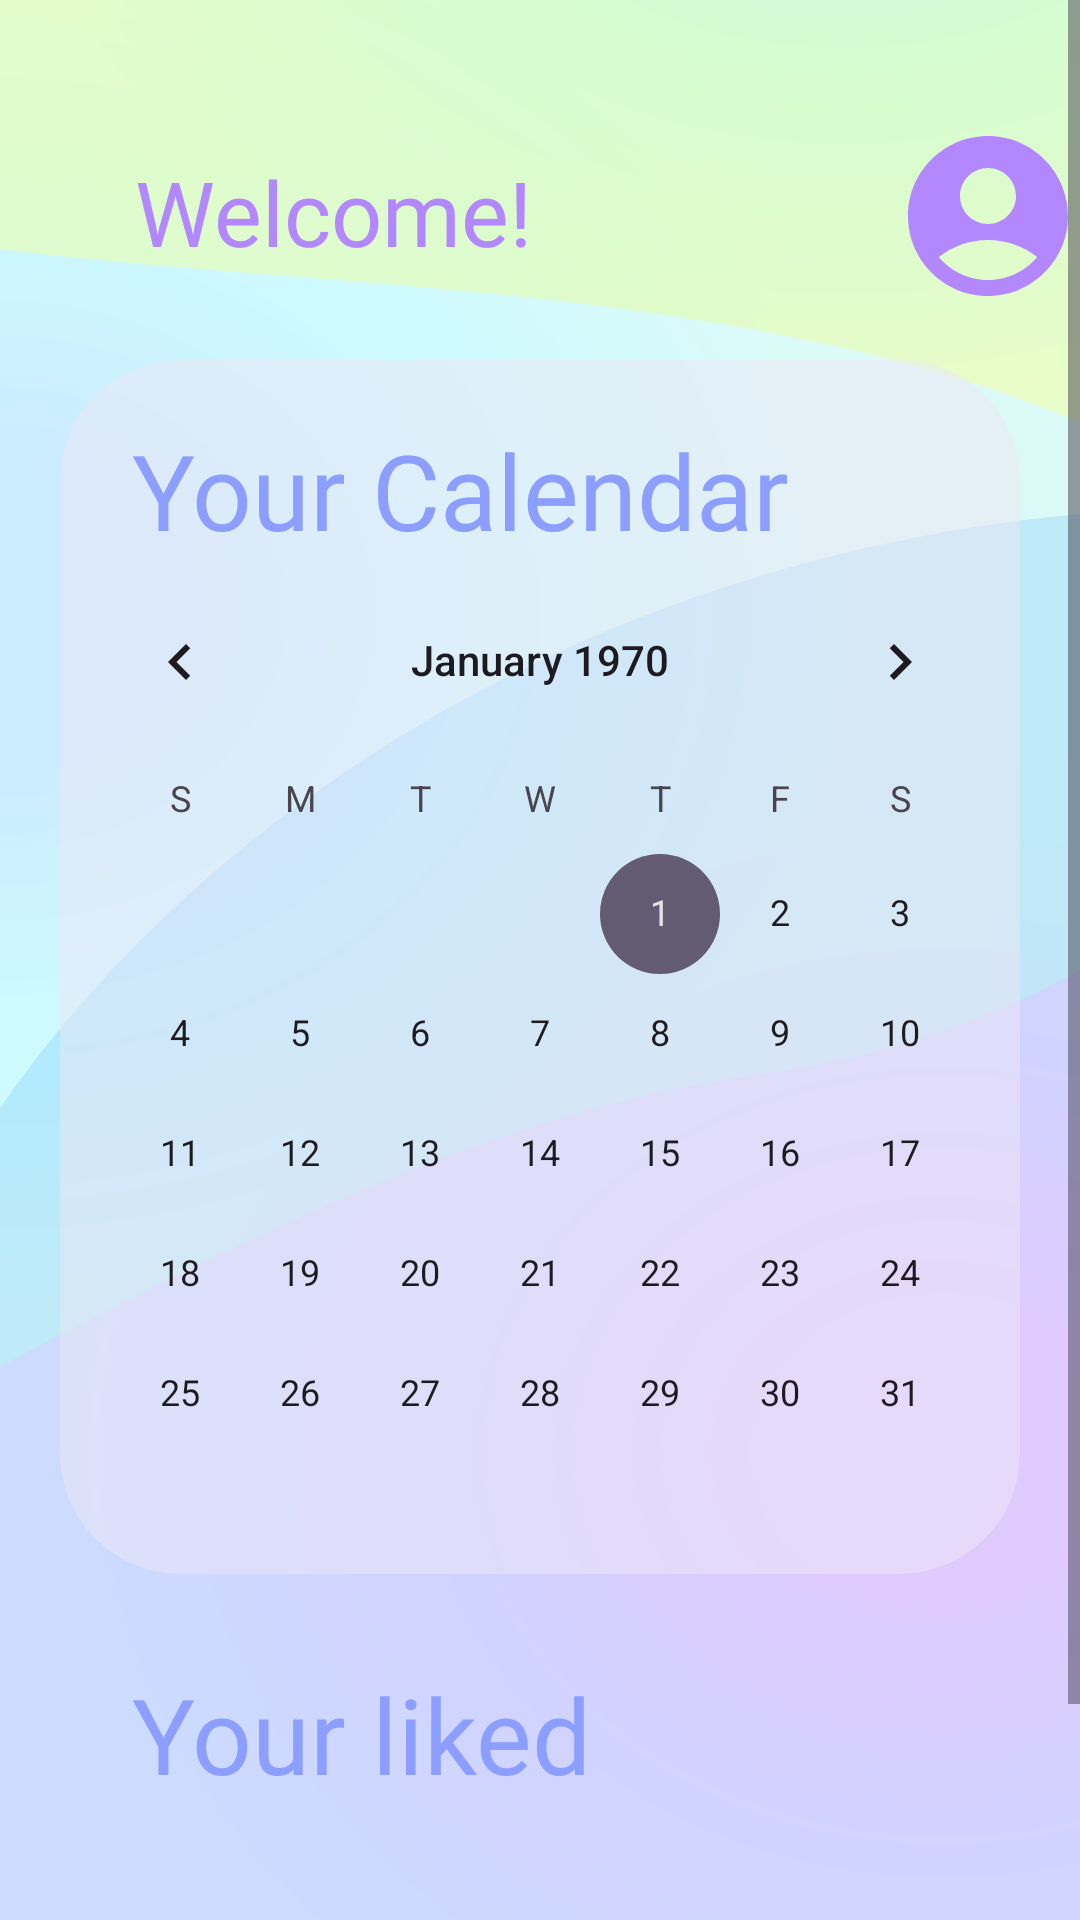

Locate icon controls on the screen. Image size 1080w x 1920h, boxes as (x1, y1, x2, y2).
useraccount: (908, 120, 1080, 312)
